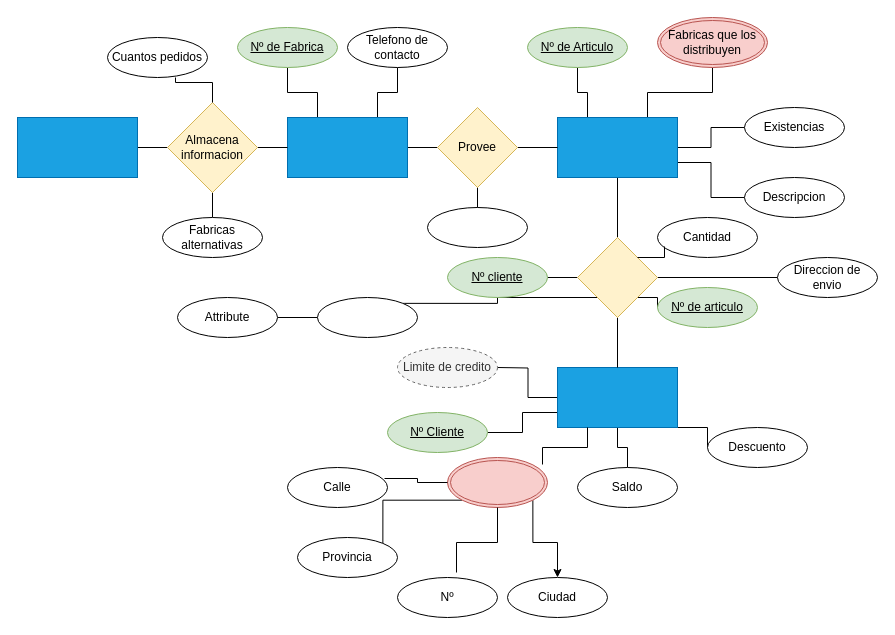
The diagram is 895 pixels wide and 635 high, and some of its shapes have lost their labels. Each missing label, with the box of its shape:
Articulo: (556, 116, 678, 178)
Articulos en total: (426, 206, 528, 248)
Cliente: (556, 366, 678, 428)
Direcciones de envio: (446, 456, 548, 508)
Empresa: (16, 116, 138, 178)
Fabrica: (286, 116, 408, 178)
Fecha del pedido: (316, 296, 418, 338)
pide: (576, 236, 658, 318)
